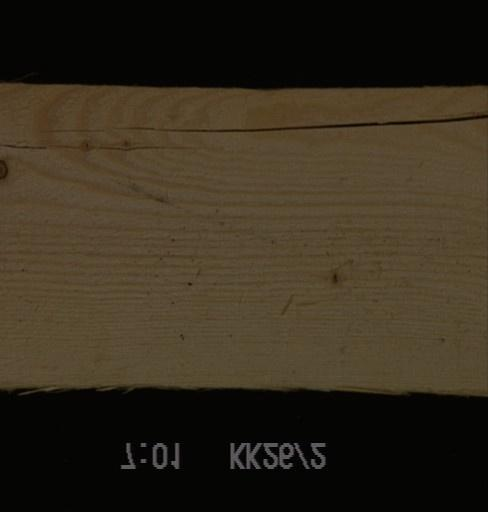dry_knot: (0, 157, 9, 181)
small_knot: (323, 267, 346, 289)
split: (34, 109, 487, 135), (1, 141, 199, 154)
